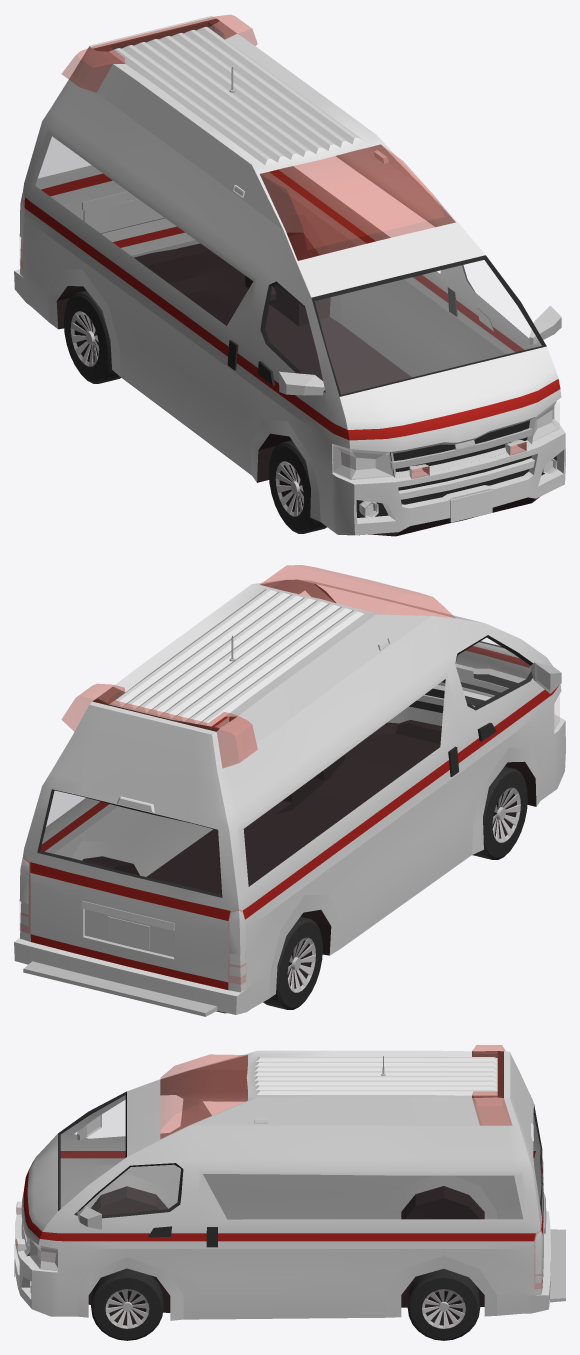
The model's file is ambulance.glb.
3 renders of one model, top to bottom at view 1: azimuth 30°, elevation 25°; view 2: azimuth 150°, elevation 25°; view 3: azimuth 270°, elevation 25°, orthographic. The views are drawn at different scales.
Parts seen in each view (by area): view 1: Object_5, Object_7, Object_10, Object_13, Object_8, Object_9, Object_16, Object_14, Object_12, Object_17, Object_11; view 2: Object_5, Object_8, Object_13, Object_10, Object_9, Object_16, Object_14, Object_7, Object_17, Object_12; view 3: Object_5, Object_8, Object_16, Object_7, Object_10, Object_9, Object_13, Object_14, Object_17, Object_15.
Boxes of the visible parts, x1,y1,x2,y2 form: Object_5: (14,16,565,535); Object_7: (265,260,541,394); Object_10: (62,15,526,478); Object_13: (56,232,539,536); Object_8: (35,137,252,325); Object_9: (24,169,560,440); Object_16: (64,18,546,533); Object_14: (70,66,561,516); Object_12: (356,420,556,517); Object_17: (19,193,557,479); Object_11: (20,237,559,516); Object_5: (14,579,565,1014); Object_8: (41,680,445,894); Object_13: (82,720,536,1013); Object_10: (61,565,454,768); Object_9: (30,646,558,989); Object_16: (37,583,532,1009); Object_14: (23,635,561,1016); Object_7: (455,638,530,706); Object_17: (19,665,557,954); Object_12: (409,674,518,712); Object_5: (14,1050,550,1320); Object_8: (203,1115,540,1219); Object_16: (58,1051,542,1340); Object_7: (61,1096,180,1214); Object_10: (16,1045,511,1250); Object_9: (23,1151,543,1287); Object_13: (27,1186,484,1325); Object_14: (21,1056,565,1328); Object_17: (29,1115,543,1271); Object_15: (40,1119,542,1282).
Size of the model in its own units: 1.15 by 1.26 by 2.58.
